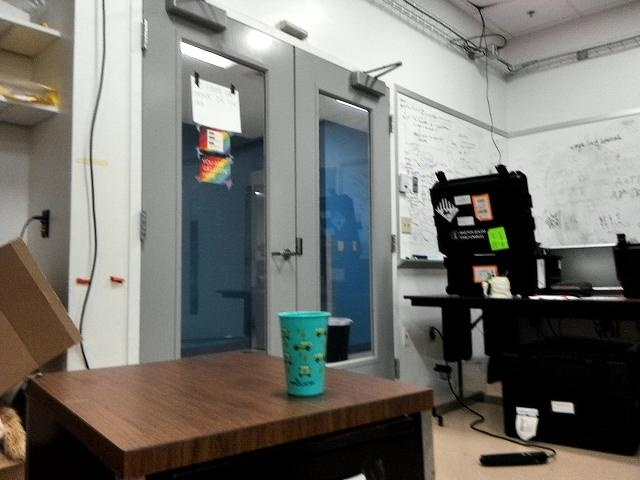coffee_cup: (276, 308, 332, 396)
